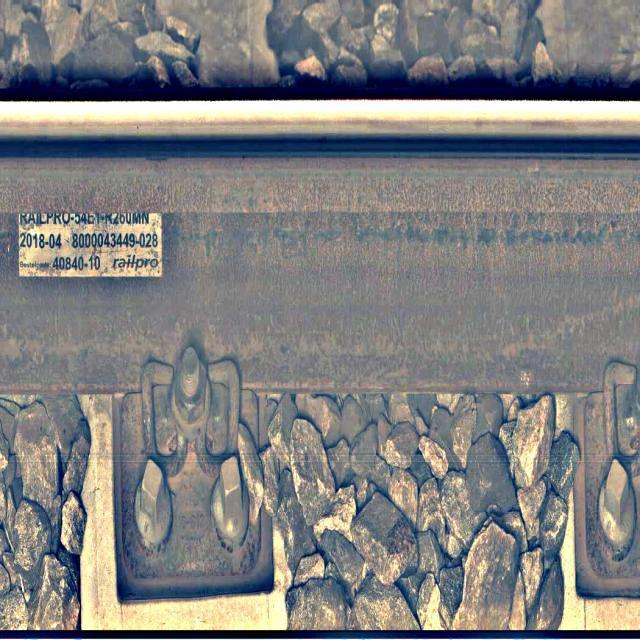Good Fasteners: (115, 346, 272, 598), (575, 361, 639, 598)
